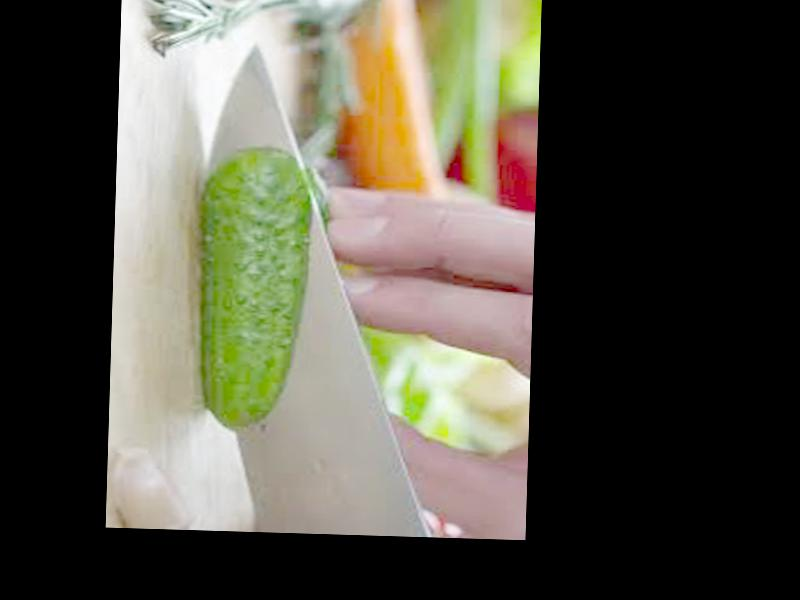Cucumber: (190, 144, 314, 430)
